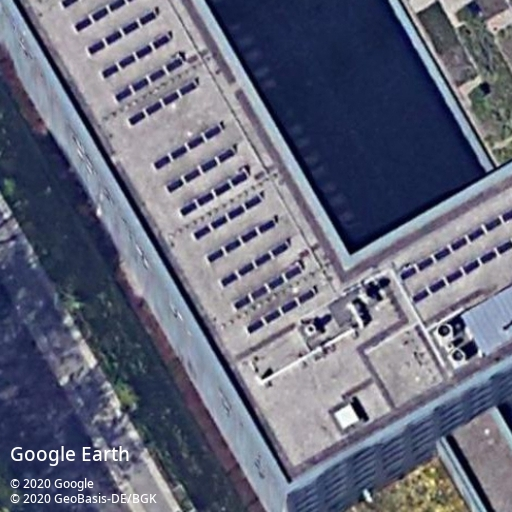Chiller: (435, 321, 456, 343), (448, 346, 467, 367)
